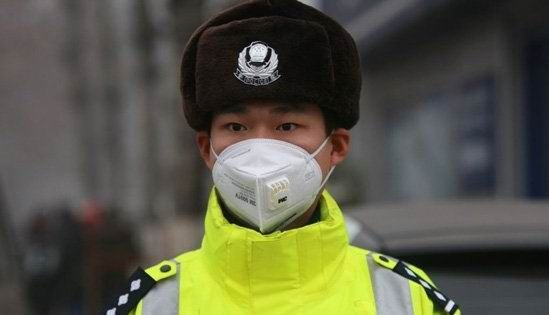face_mask: (207, 87, 321, 221)
